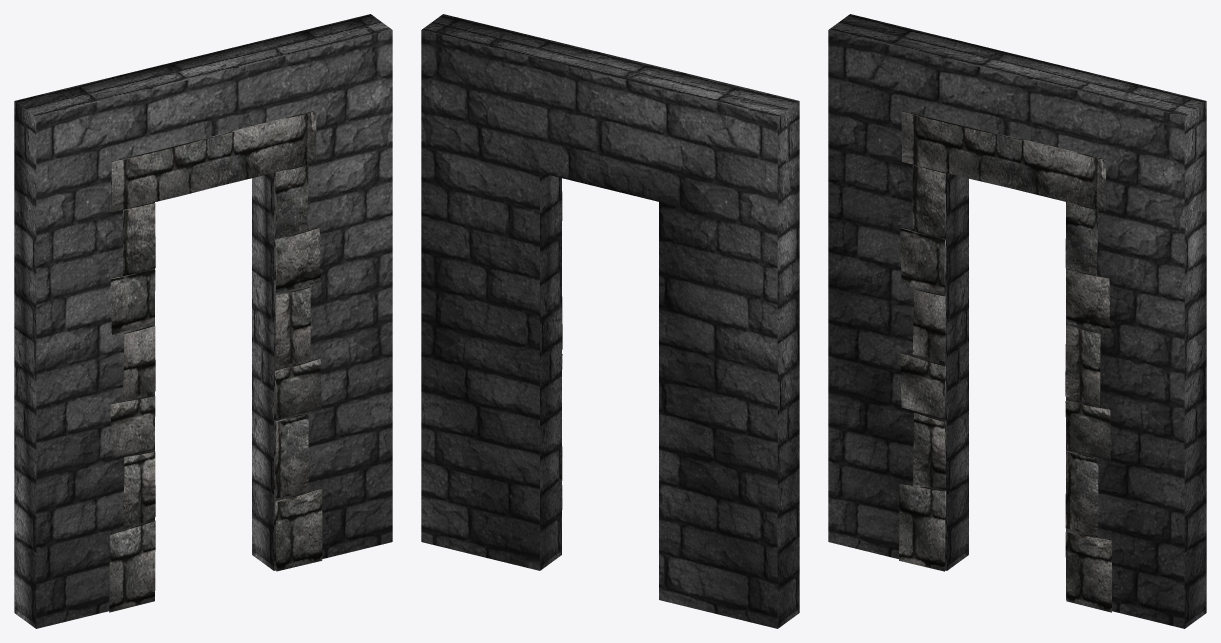
File: stone door2.glb
3 renders of one model, left to right at view 1: azimuth 30°, elevation 25°; view 2: azimuth 150°, elevation 25°; view 3: azimuth 330°, elevation 25°, orthographic.
Visible parts, largest first — view 1: Rectangle Door Wall; view 2: Rectangle Door Wall; view 3: Rectangle Door Wall.
Part boxes in pixels (<box>): Rectangle Door Wall: <box>14,14,392,628</box>; Rectangle Door Wall: <box>421,14,799,628</box>; Rectangle Door Wall: <box>828,14,1206,628</box>.
Bounding box in the file's own units: 2 × 2.75 × 0.225.
Materials: 2 (2 with a texture image).
